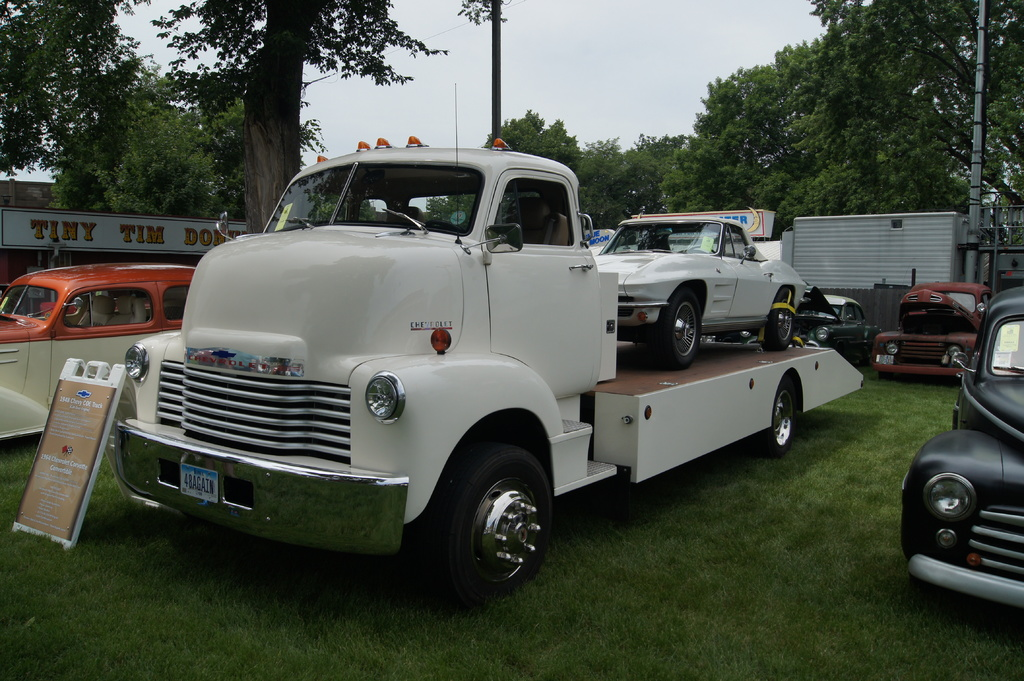Car: (904, 286, 1023, 609), (0, 264, 194, 440), (592, 218, 807, 373), (869, 285, 989, 386), (812, 293, 879, 366)
